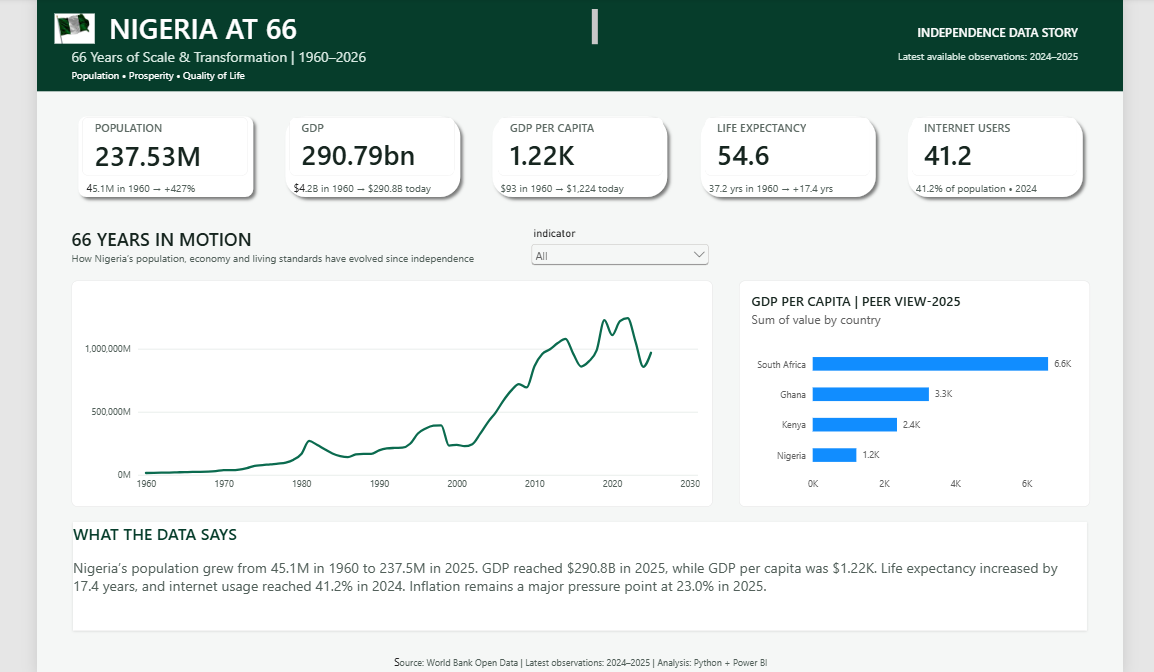

The page's visual inventory and layout, read from the dashboard file:
{"tool":"powerbi","page":{"name":"Page 1","canvas":[1440,900],"ordinal":0},"visuals":[{"type":"shape","box":[320,150,250,125],"z":0},{"type":"cardVisual","fields":{"Data":["Sum(FactIndicators.value)"]},"box":[335,160,220,78],"z":1000},{"type":"shape","box":[1145,150,250,125],"z":2000},{"type":"shape","box":[870,150,250,125],"z":3000},{"type":"shape","box":[595,150,250,125],"z":4000},{"type":"shape","box":[0,0,1440,125],"z":5000},{"type":"textbox","box":[45,65,650,30],"z":7000},{"type":"textbox","box":[45,94,500,22],"z":8000},{"type":"textbox","box":[1050,35,330,28],"z":9000},{"type":"textbox","box":[1000,68,380,25],"z":10000},{"type":"shape","box":[45,150,250,125],"z":11000},{"type":"cardVisual","fields":{"Data":["Sum(FactIndicators.value)"]},"box":[60,160,220,78],"z":12000},{"type":"textbox","box":[65,242,210,22],"z":13000},{"type":"textbox","box":[340,242,210,22],"z":14000},{"type":"cardVisual","fields":{"Data":["Sum(FactIndicators.value)"]},"box":[610,160,220,78],"z":15000},{"type":"textbox","box":[615,242,210,22],"z":16000},{"type":"cardVisual","fields":{"Data":["Sum(FactIndicators.value)"]},"box":[885,160,220,78],"z":17000},{"type":"textbox","box":[890,242,210,22],"z":18000},{"type":"cardVisual","fields":{"Data":["Sum(FactIndicators.value)"]},"box":[1160,160,220,78],"z":19000},{"type":"textbox","box":[1165,242,210,22],"z":20000},{"type":"textbox","box":[45,305,500,32],"z":21000},{"type":"textbox","box":[45,337,750,25],"z":22000},{"type":"lineChart","fields":{"Category":["FactIndicators.year"],"Y":["Sum(FactIndicators.value)"]},"box":[45,375,850,300],"z":23000},{"type":"slicer","fields":{"Values":["FactIndicators.indicator"]},"box":[650,305,245,55],"z":24000},{"type":"clusteredBarChart","title":"GDP PER CAPITA | PEER VIEW-2025","fields":{"Category":["FactIndicators.country"],"Y":["Sum(FactIndicators.value)"]},"box":[930,375,465,300],"z":25000},{"type":"textbox","box":[48,696,1344,144],"z":26000},{"type":"textbox","box":[45,870,1350,22],"z":27000},{"type":"image","box":[20,22,60,40],"z":28000},{"type":"textbox","box":[96,16,648,48],"z":28001}]}

Visuals, with their boxes on the page's 1440x900 design canvas (x1, y1, x2, y2). These are canvas units, not pixel positions in the 1154x672 screenshot, which may show the page scaled, cropped or inside an application window:
shape: 320,150,570,275
cardVisual - Sum(FactIndicators.value): 335,160,555,238
shape: 1145,150,1395,275
shape: 870,150,1120,275
shape: 595,150,845,275
shape: 0,0,1440,125
textbox: 45,65,695,95
textbox: 45,94,545,116
textbox: 1050,35,1380,63
textbox: 1000,68,1380,93
shape: 45,150,295,275
cardVisual - Sum(FactIndicators.value): 60,160,280,238
textbox: 65,242,275,264
textbox: 340,242,550,264
cardVisual - Sum(FactIndicators.value): 610,160,830,238
textbox: 615,242,825,264
cardVisual - Sum(FactIndicators.value): 885,160,1105,238
textbox: 890,242,1100,264
cardVisual - Sum(FactIndicators.value): 1160,160,1380,238
textbox: 1165,242,1375,264
textbox: 45,305,545,337
textbox: 45,337,795,362
lineChart - FactIndicators.year x Sum(FactIndicators.value): 45,375,895,675
slicer - FactIndicators.indicator: 650,305,895,360
"GDP PER CAPITA | PEER VIEW-2025" clusteredBarChart: 930,375,1395,675
textbox: 48,696,1392,840
textbox: 45,870,1395,892
image: 20,22,80,62
textbox: 96,16,744,64
